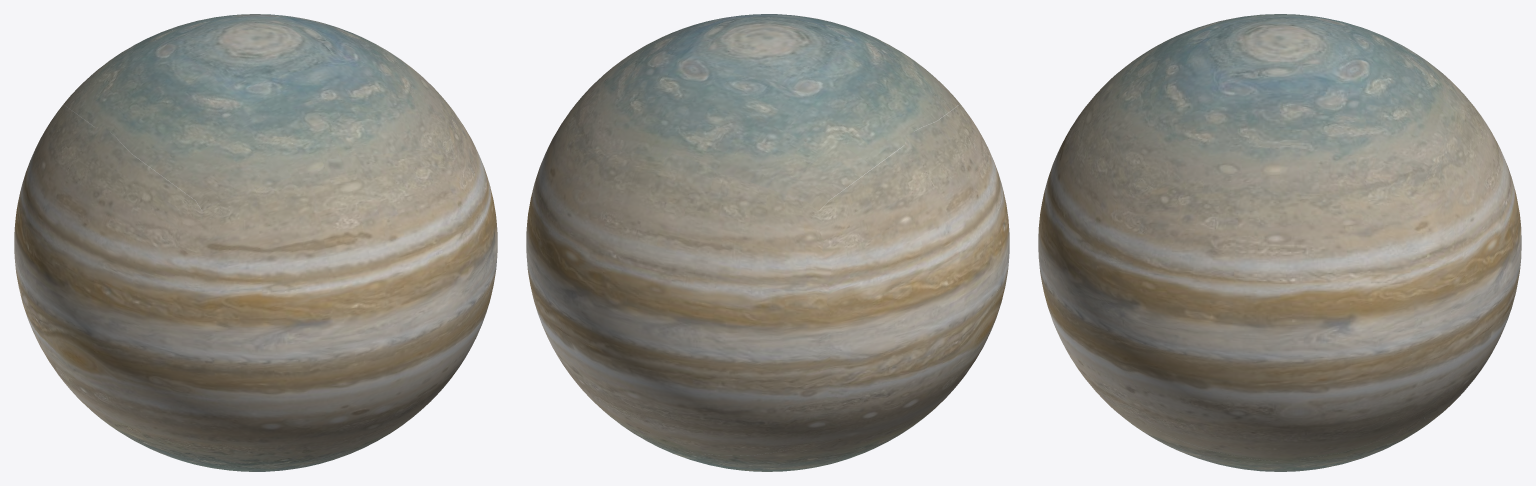
Rendered from jupiter.glb.
The picture shows the model from 3 angles, left to right: view 1: azimuth 30°, elevation 25°; view 2: azimuth 150°, elevation 25°; view 3: azimuth 270°, elevation 25°; orthographic projection.
Visible parts, largest first — view 1: Jupiter_surface_cubemap; view 2: Jupiter_surface_cubemap; view 3: Jupiter_surface_cubemap.
Part boxes in pixels (<box>): Jupiter_surface_cubemap: <box>14,14,497,471</box>; Jupiter_surface_cubemap: <box>526,14,1009,471</box>; Jupiter_surface_cubemap: <box>1038,14,1521,471</box>.
Bounding box in the file's own units: 1.99 × 1.87 × 1.99.
1 material, 1 textured.
